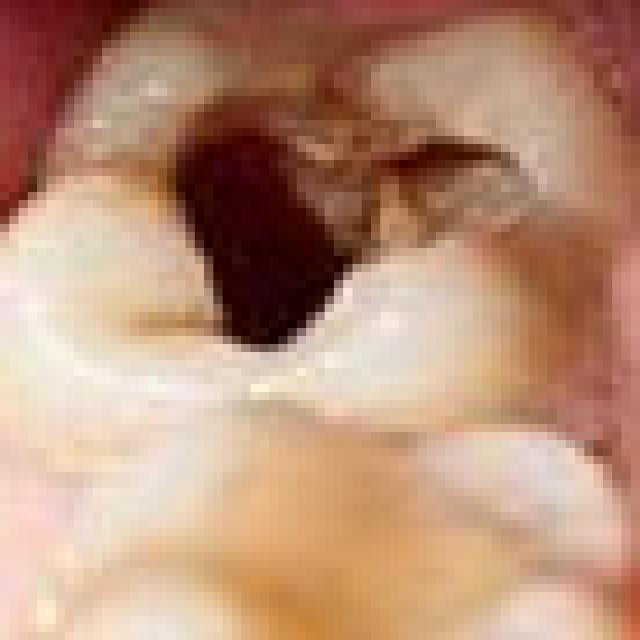Carrier: (150, 57, 550, 360)
